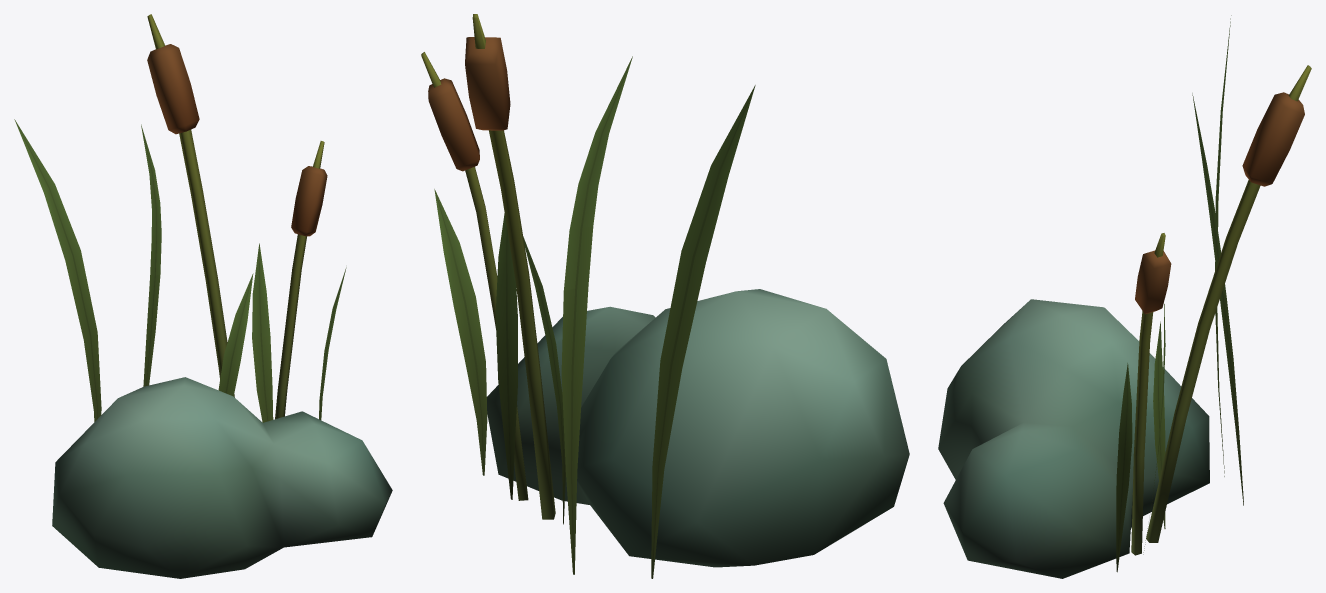
File: RiverReeds_1.fbx
3 renders of one model, left to right at view 1: azimuth 30°, elevation 25°; view 2: azimuth 150°, elevation 25°; view 3: azimuth 270°, elevation 25°, orthographic. The views are drawn at different scales.
Visible parts, largest first — view 1: Sphere.101; view 2: Sphere.101; view 3: Sphere.101.
Boxes of the visible parts, x1=… form: Sphere.101: x1=14, y1=14, x2=392, y2=578; Sphere.101: x1=421, y1=14, x2=909, y2=578; Sphere.101: x1=938, y1=15, x2=1311, y2=578.
Size of the model in its own units: 104 by 99.34 by 139.
